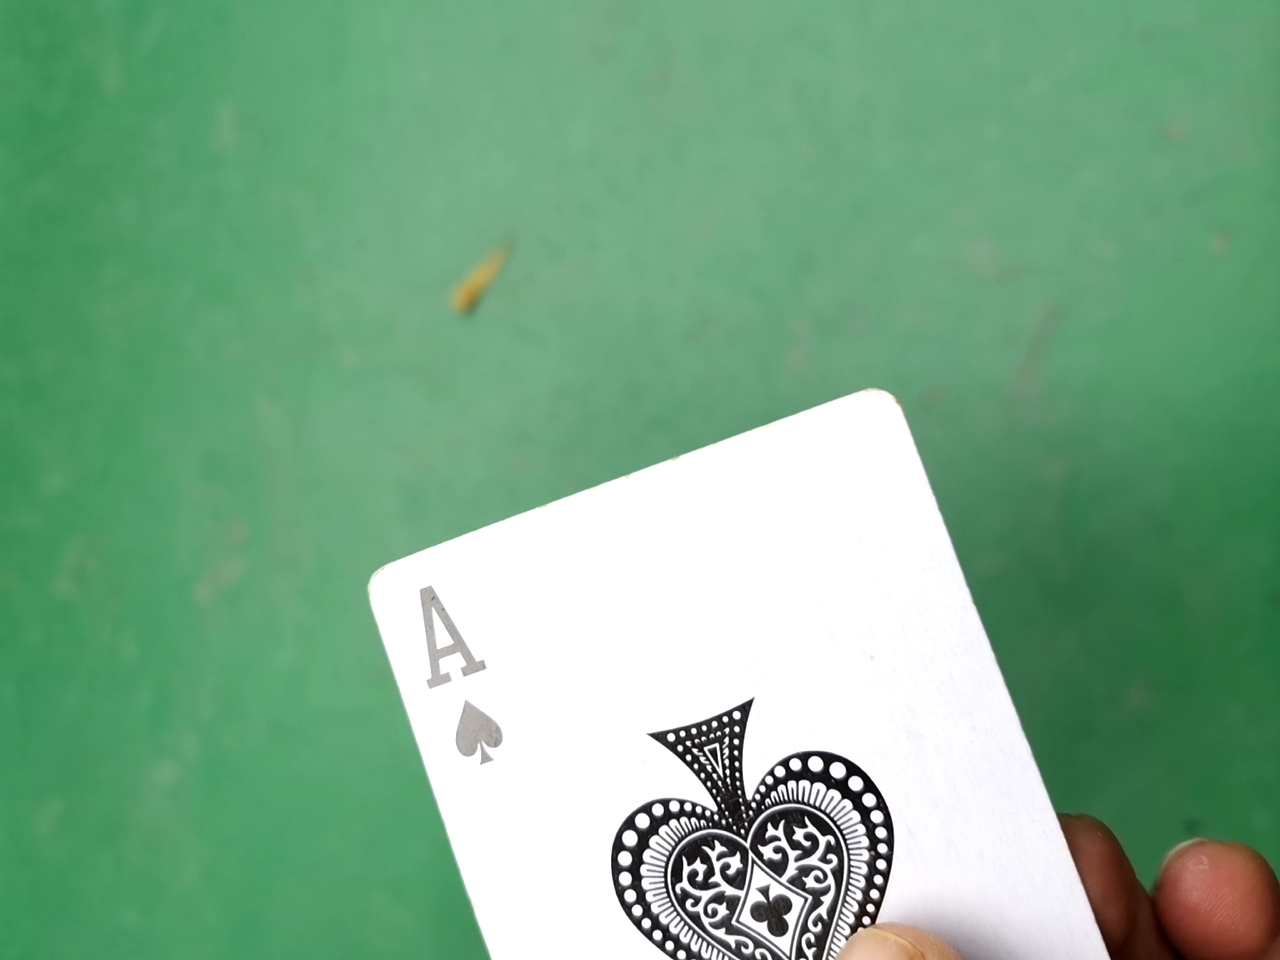ht a: (358, 370, 1272, 960)
